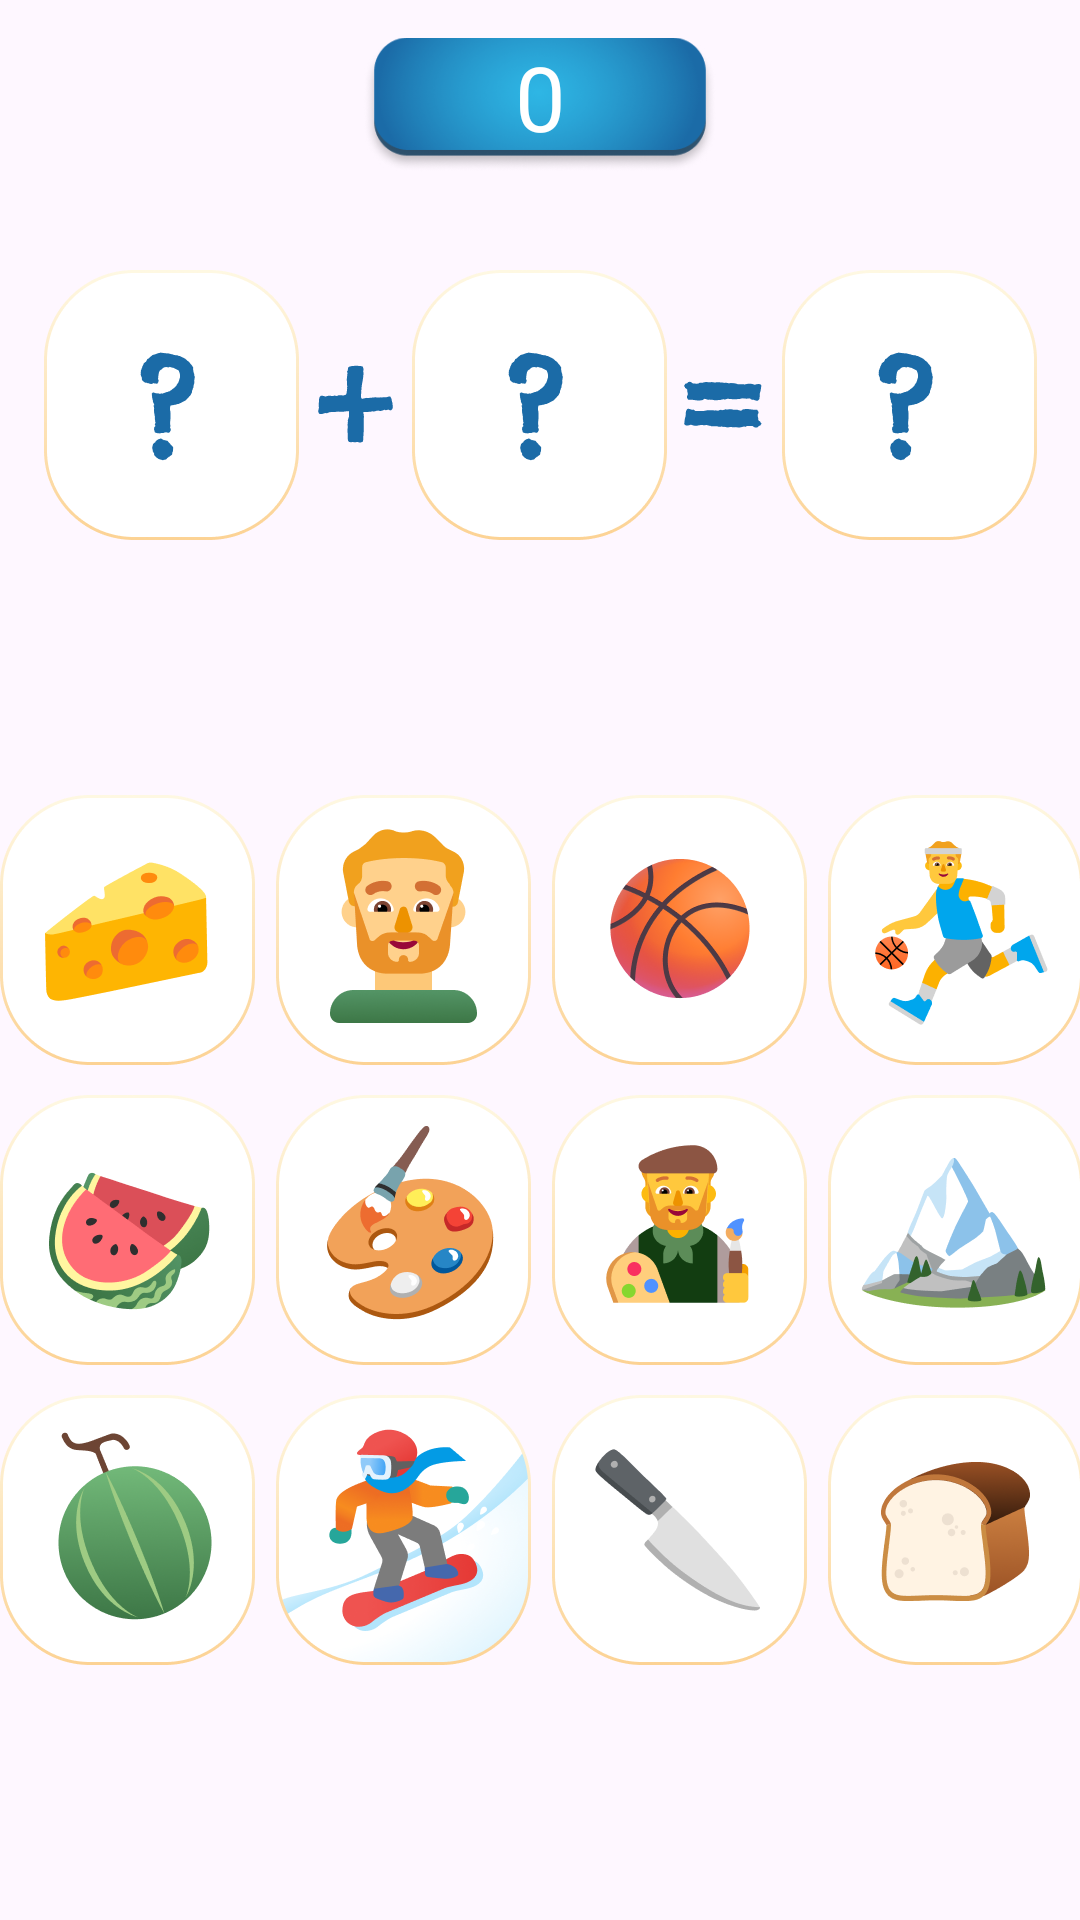

Icon click points for this 1080 x 1920 phone screenshot, format (x,y):
equal: (723,404)
plus: (355,404)
